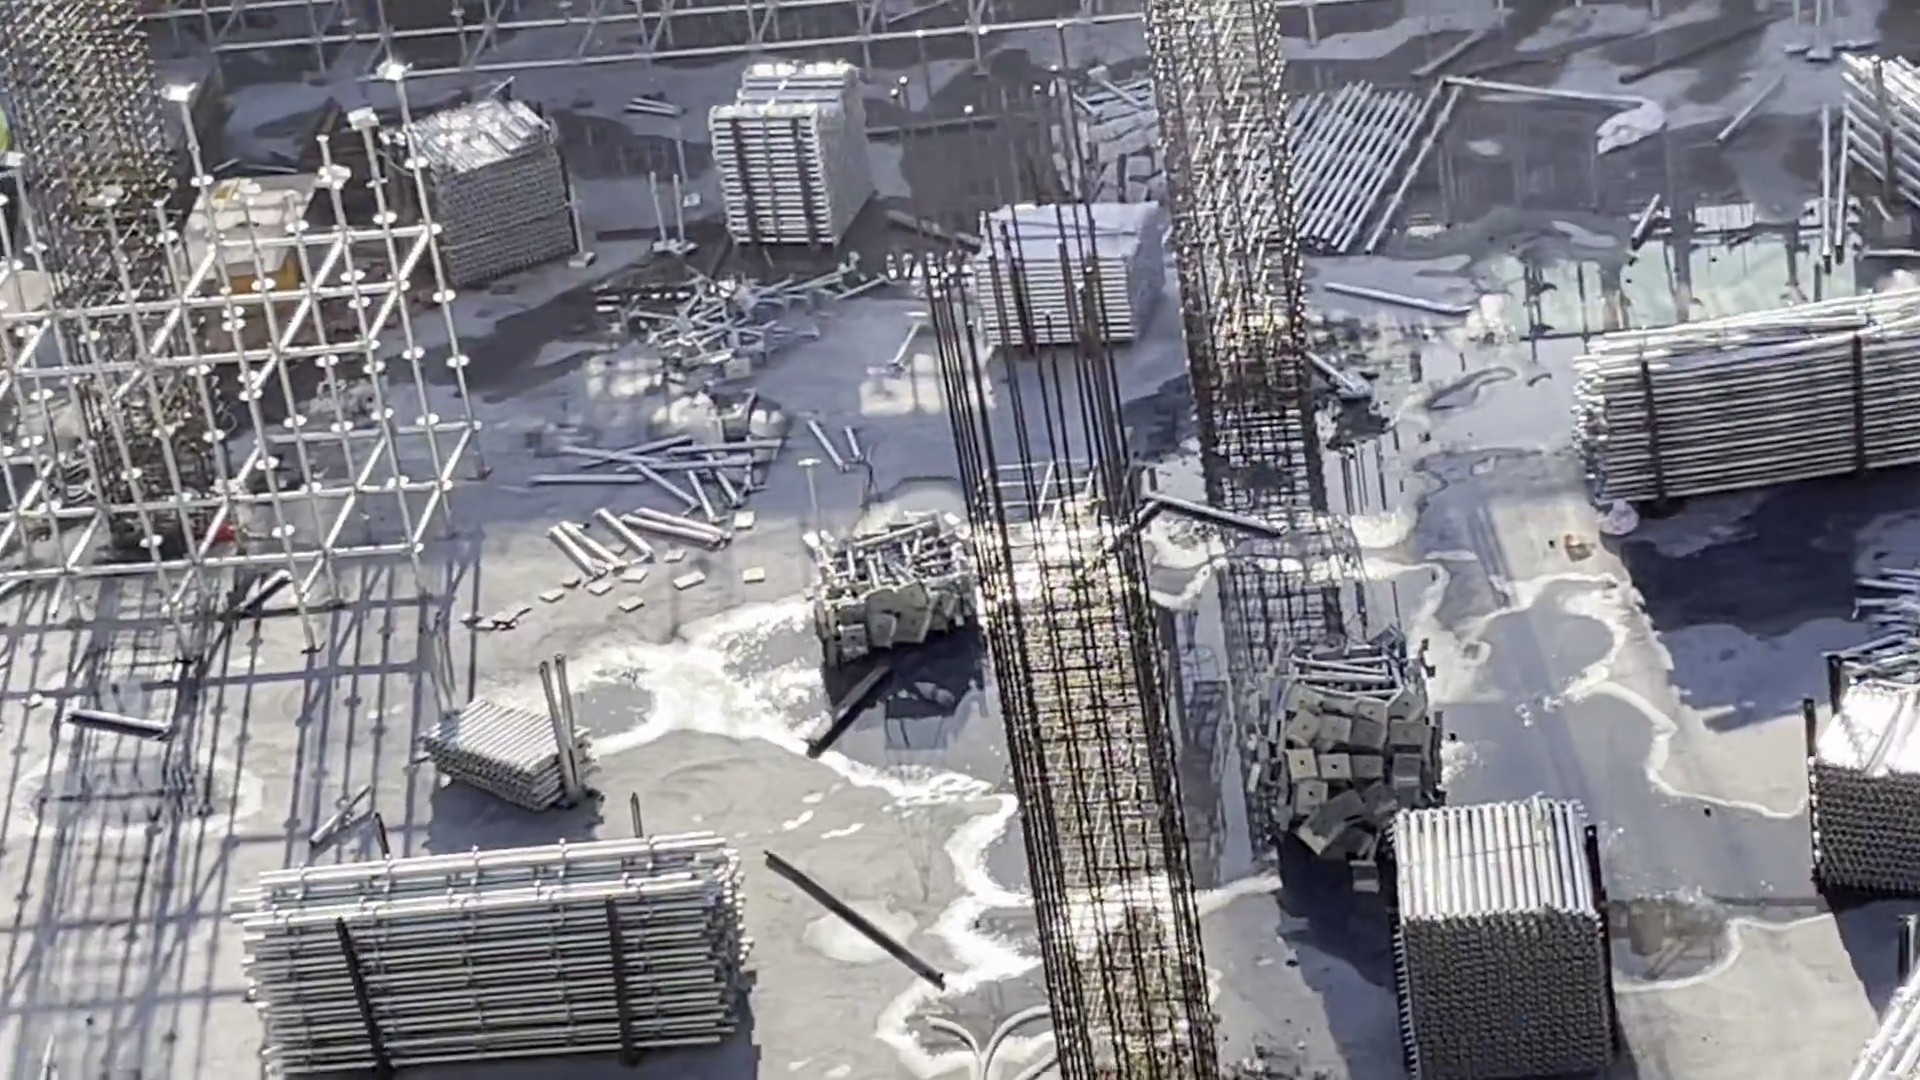scaffold: (228, 822, 760, 1065), (1568, 276, 1920, 498), (1374, 789, 1631, 1079), (696, 67, 890, 262), (400, 95, 582, 286), (968, 193, 1174, 352), (1799, 663, 1919, 923), (1270, 83, 1443, 252), (1840, 46, 1920, 183)
